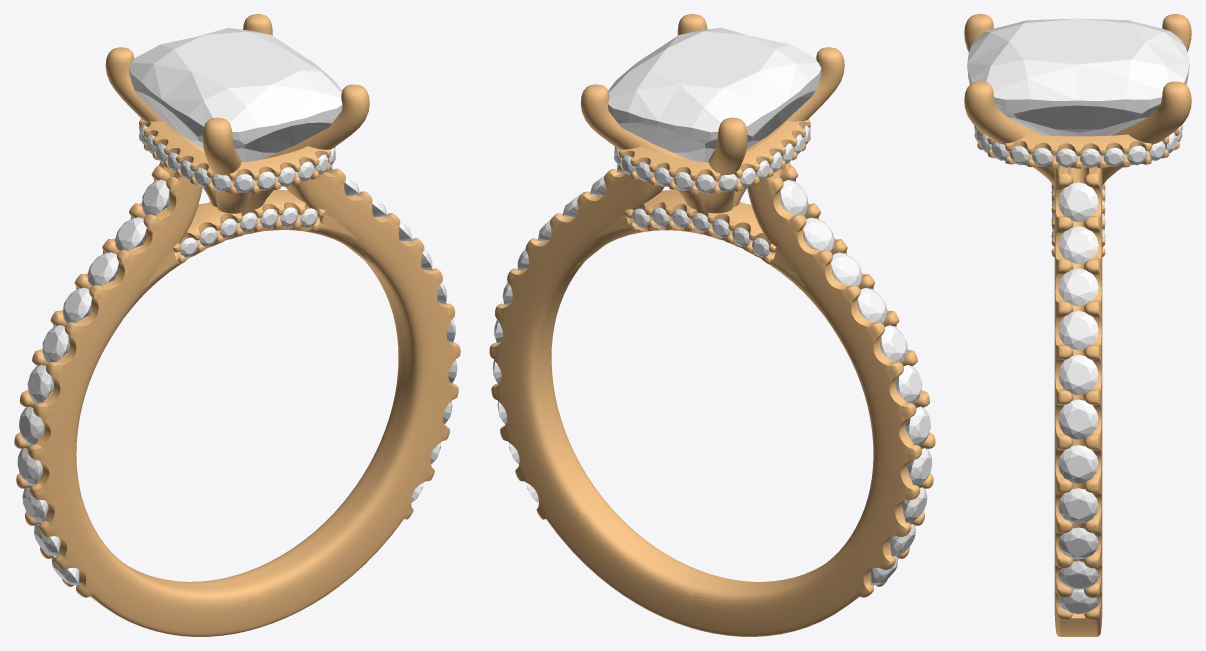
3 renders of one model, left to right at view 1: azimuth 30°, elevation 25°; view 2: azimuth 150°, elevation 25°; view 3: azimuth 270°, elevation 25°, orthographic.
Visible parts, largest first — view 1: object 64, PART0001 (×9); view 2: object 64, PART0001 (×9); view 3: PART0001 (×13), object 64.
Part boxes in pixels (x1=…): object 64: x1=14, y1=14, x2=460, y2=636; PART0001 (×9): x1=17, y1=28, x2=342, y2=485; object 64: x1=489, y1=14, x2=935, y2=636; PART0001 (×9): x1=608, y1=27, x2=932, y2=485; PART0001 (×13): x1=967, y1=18, x2=1189, y2=613; object 64: x1=964, y1=14, x2=1191, y2=636.
Bounding box in the file's own units: 2.4 × 3.01 × 1.09.
